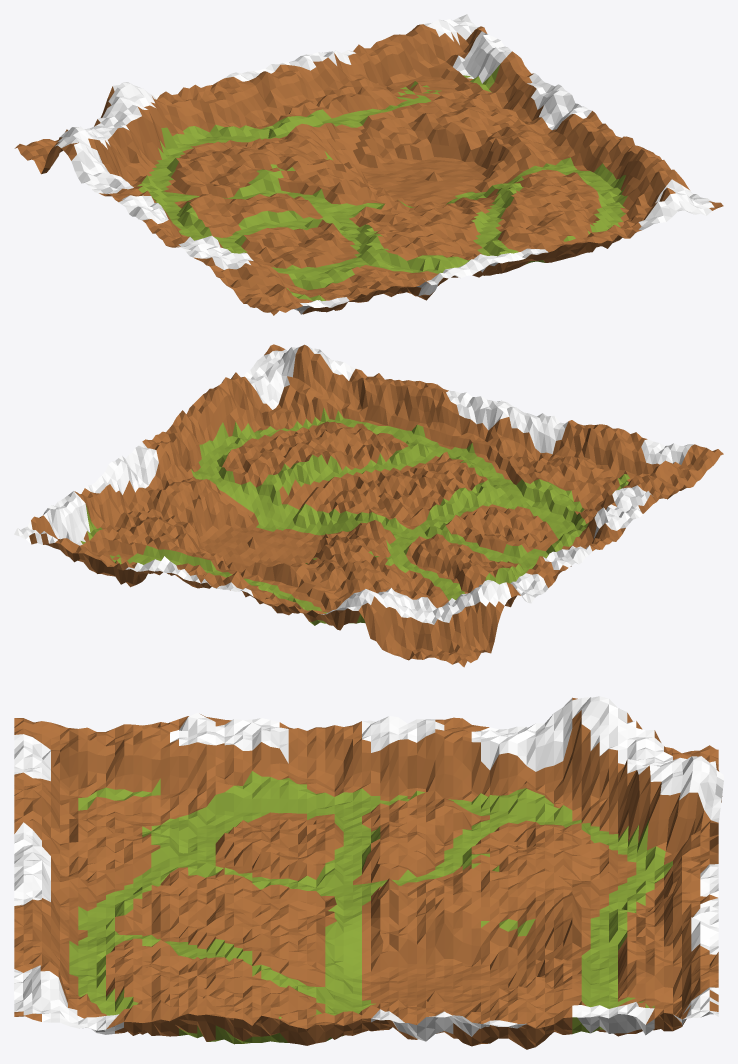
The model's file is terrain.glb.
3 views of the same model, one above another, from view 1: azimuth 30°, elevation 25°; view 2: azimuth 150°, elevation 25°; view 3: azimuth 270°, elevation 25° (orthographic). The views are drawn at different scales.
Parts seen in each view (by area): view 1: Terrain; view 2: Terrain; view 3: Terrain.
Boxes of the visible parts, x1,y1,x2,y2 form: Terrain: [14, 14, 723, 315]; Terrain: [14, 344, 723, 667]; Terrain: [14, 696, 723, 1049].
Size of what is drawn, in the model's own units: 100 by 18.05 by 101.
